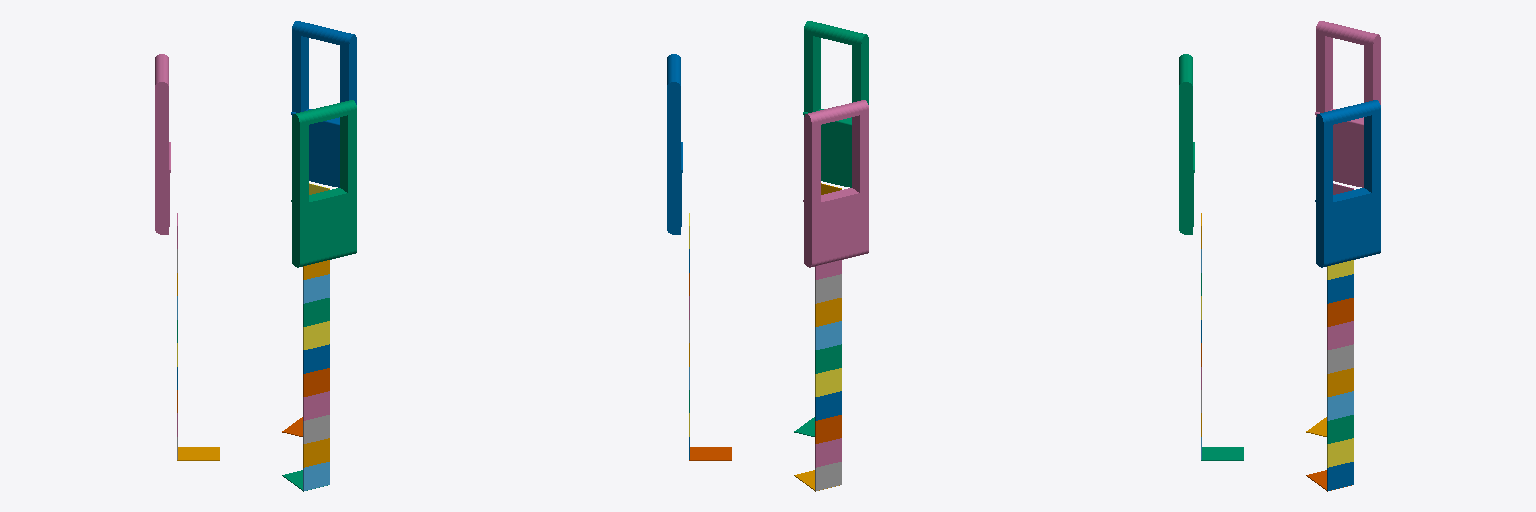
--- What the picture shows (computed from the rendered views, not written in the file) ---
The picture shows the robot from 3 angles, left to right: view 1: azimuth 30°, elevation 25°; view 2: azimuth 150°, elevation 25°; view 3: azimuth 270°, elevation 25°; orthographic projection.
Robot: gripper_task — 42 links, 41 joints (30 revolute, 5 prismatic, 6 fixed); root link world; default pose: all joints at 0 but 3 set to mid-range because 0 is outside their limits (finger_1_prismatic_joint = 0.0915, finger_2_prismatic_joint = 0.0915, finger_3_prismatic_joint = 0.0915).
Visible links, largest first — view 1: finger_1, finger_2, finger_3, finger_1_segment_link_7, finger_1_segment_link_2, finger_1_segment_link_3, finger_1_segment_link_5, finger_1_segment_link_9, finger_1_segment_link_4, finger_1_segment_link_10, finger_1_segment_link_6, finger_1_segment_link_8 (+1 smaller); view 2: finger_3, finger_1, finger_2, finger_3_segment_link_7, finger_3_segment_link_2, finger_3_segment_link_3, finger_3_segment_link_5, finger_3_segment_link_9, finger_3_segment_link_4, finger_3_segment_link_10, finger_3_segment_link_6, finger_3_segment_link_8 (+1 smaller); view 3: finger_2, finger_3, finger_1, finger_2_segment_link_7, finger_2_segment_link_2, finger_2_segment_link_3, finger_2_segment_link_5, finger_2_segment_link_9, finger_2_segment_link_4, finger_2_segment_link_10, finger_2_segment_link_6, finger_2_segment_link_8 (+1 smaller).
Link boxes in pixels (<box>): finger_1: <box>291,100,356,267</box>; finger_2: <box>291,21,356,187</box>; finger_3: <box>155,54,170,234</box>; finger_1_segment_link_7: <box>303,391,329,420</box>; finger_1_segment_link_2: <box>303,274,329,303</box>; finger_1_segment_link_3: <box>303,298,329,326</box>; finger_1_segment_link_5: <box>303,344,329,373</box>; finger_1_segment_link_9: <box>303,438,329,467</box>; finger_1_segment_link_4: <box>303,321,329,349</box>; finger_1_segment_link_10: <box>303,462,329,490</box>; finger_1_segment_link_6: <box>303,368,329,396</box>; finger_1_segment_link_8: <box>303,415,329,443</box>; finger_3: <box>803,100,868,267</box>; finger_1: <box>803,21,868,187</box>; finger_2: <box>667,54,682,234</box>; finger_3_segment_link_7: <box>815,391,841,420</box>; finger_3_segment_link_2: <box>815,274,841,303</box>; finger_3_segment_link_3: <box>815,298,841,326</box>; finger_3_segment_link_5: <box>815,344,841,373</box>; finger_3_segment_link_9: <box>815,438,841,467</box>; finger_3_segment_link_4: <box>815,321,841,349</box>; finger_3_segment_link_10: <box>815,462,841,490</box>; finger_3_segment_link_6: <box>815,368,841,396</box>; finger_3_segment_link_8: <box>815,415,841,443</box>; finger_2: <box>1315,100,1380,267</box>; finger_3: <box>1315,21,1380,187</box>; finger_1: <box>1179,54,1194,234</box>; finger_2_segment_link_7: <box>1327,391,1353,420</box>; finger_2_segment_link_2: <box>1327,274,1353,303</box>; finger_2_segment_link_3: <box>1327,298,1353,326</box>; finger_2_segment_link_5: <box>1327,344,1353,373</box>; finger_2_segment_link_9: <box>1327,438,1353,467</box>; finger_2_segment_link_4: <box>1327,321,1353,349</box>; finger_2_segment_link_10: <box>1327,462,1353,490</box>; finger_2_segment_link_6: <box>1327,368,1353,396</box>; finger_2_segment_link_8: <box>1327,415,1353,443</box>.
Size in the robot's own frame: 0.2121 by 0.1839 by 0.3875 metres.
3 mesh visuals loaded from 4 distinct referenced files (1 binary STL); not drawn: 5 (reference not matched to a file when rendering).

robot.urdf — gripper_task:
<?xml version="1.0" ?>
<!-- =================================================================================== -->
<!-- |    This document was autogenerated by xacro from xacro/gripper_task.urdf.xacro  | -->
<!-- |    EDITING THIS FILE BY HAND IS NOT RECOMMENDED                                 | -->
<!-- =================================================================================== -->
<robot name="gripper_task">
  <mujoco>
    <compiler balanceinertia="true" discardvisual="false" meshdir="./meshes_mujoco/"/>
    <size nconmax="800" njmax="3400"/>
  </mujoco>
  <!-- PARAMETERS TO BE SET BY HAND -->
  <!-- END OF PARAMETERS TO BE SET BY HAND -->
  <!-- PARAMETERS TO BE SET BY HAND -->
  <!-- END OF PARAMETER TO BE SET BY HAND -->
  <!-- BASE LINK -->
  <link name="gripper_base_link">
    <inertial>
      <mass value="1.5"/>
      <origin rpy="3.141592653589793 0 0" xyz="0 0 0.025"/>
      <inertia ixx="9.95e-3" ixy="2.73e-6" ixz="-14.32e-6" iyy="10.08e-3" iyz="121.38e-6" izz="5.13e-3"/>
    </inertial>
    <visual>
      <geometry>
        <mesh filename="package://gripper_description/meshes/main body visual.STL"/>
      </geometry>
    </visual>
    <collision>
      <geometry>
        <!--          <mesh filename="package://gripper_description/meshes/main body collision.STL"/>-->
        <cylinder length="0.1" radius="0.03"/>
      </geometry>
    </collision>
  </link>
  <!-- Intermediate link for prismatic joint -->
  <link name="finger_1_intermediate">
    <inertial>
      <mass value="0.1"/>
      <origin rpy="0 0 0" xyz="0 0 0"/>
      <inertia ixx="55.59e-6" ixy="-47.23e-6" ixz="1.16e-6" iyy="146.36e-6" iyz="1.00e-6" izz="154.18e-6"/>
    </inertial>
    <visual>
      <geometry>
        <mesh filename="package://gripper_description/meshes/nut visual.STL"/>
      </geometry>
    </visual>
    <collision>
      <geometry>
        <mesh filename="package://gripper_description/meshes/nut collision.STL"/>
      </geometry>
    </collision>
  </link>
  <!-- Main finger link -->
  <link name="finger_1">
    <inertial>
      <mass value="0.1"/>
      <origin rpy="0 0 0" xyz="0 0 0"/>
      <inertia ixx="55.59e-6" ixy="-47.23e-6" ixz="1.16e-6" iyy="146.36e-6" iyz="1.00e-6" izz="154.18e-6"/>
    </inertial>
    <visual>
      <geometry>
        <mesh filename="package://gripper_description/meshes/platform only visual.STL"/>
      </geometry>
    </visual>
    <collision>
      <geometry>
        <mesh filename="package://gripper_description/meshes/platform only collision.STL"/>
      </geometry>
    </collision>
  </link>
  <!-- Prismatic joint -->
  <joint name="finger_1_prismatic_joint" type="prismatic">
    <axis rpy="0 0 0" xyz="0 1 0"/>
    <parent link="gripper_base_link"/>
    <child link="finger_1_intermediate"/>
    <origin rpy="4.71238898038469                    4.71238898038469                    1.5707963267948966" xyz="0.0                    0.0                    0"/>
    <limit effort="40.0" lower="0.049" upper="0.134" velocity="0.015"/>
    <dynamics damping="1.0"/>
  </joint>
  <!-- Revolute joint -->
  <joint name="finger_1_revolute_joint" type="revolute">
    <axis rpy="0 0 0" xyz="0 0 1"/>
    <parent link="finger_1_intermediate"/>
    <child link="finger_1"/>
    <origin rpy="0 0 0.0" xyz="0 0 0"/>
    <limit effort="40.0" lower="-0.7" upper="0.7" velocity="0.1"/>
    <dynamics damping="1.0"/>
  </joint>
  <!-- Intermediate link for prismatic joint -->
  <link name="finger_2_intermediate">
    <inertial>
      <mass value="0.1"/>
      <origin rpy="0 0 0" xyz="0 0 0"/>
      <inertia ixx="55.59e-6" ixy="-47.23e-6" ixz="1.16e-6" iyy="146.36e-6" iyz="1.00e-6" izz="154.18e-6"/>
    </inertial>
    <visual>
      <geometry>
        <mesh filename="package://gripper_description/meshes/nut visual.STL"/>
      </geometry>
    </visual>
    <collision>
      <geometry>
        <mesh filename="package://gripper_description/meshes/nut collision.STL"/>
      </geometry>
    </collision>
  </link>
  <!-- Main finger link -->
  <link name="finger_2">
    <inertial>
      <mass value="0.1"/>
      <origin rpy="0 0 0" xyz="0 0 0"/>
      <inertia ixx="55.59e-6" ixy="-47.23e-6" ixz="1.16e-6" iyy="146.36e-6" iyz="1.00e-6" izz="154.18e-6"/>
    </inertial>
    <visual>
      <geometry>
        <mesh filename="package://gripper_description/meshes/platform only visual.STL"/>
      </geometry>
    </visual>
    <collision>
      <geometry>
        <mesh filename="package://gripper_description/meshes/platform only collision.STL"/>
      </geometry>
    </collision>
  </link>
  <!-- Prismatic joint -->
  <joint name="finger_2_prismatic_joint" type="prismatic">
    <axis rpy="0 0 0" xyz="0 1 0"/>
    <parent link="gripper_base_link"/>
    <child link="finger_2_intermediate"/>
    <origin rpy="4.71238898038469                    4.71238898038469                    -0.5235987755982987" xyz="0.0                    -0.0                    0"/>
    <limit effort="40.0" lower="0.049" upper="0.134" velocity="0.015"/>
    <dynamics damping="1.0"/>
  </joint>
  <!-- Revolute joint -->
  <joint name="finger_2_revolute_joint" type="revolute">
    <axis rpy="0 0 0" xyz="0 0 1"/>
    <parent link="finger_2_intermediate"/>
    <child link="finger_2"/>
    <origin rpy="0 0 0.0" xyz="0 0 0"/>
    <limit effort="40.0" lower="-0.7" upper="0.7" velocity="0.1"/>
    <dynamics damping="1.0"/>
  </joint>
  <!-- Intermediate link for prismatic joint -->
  <link name="finger_3_intermediate">
    <inertial>
      <mass value="0.1"/>
      <origin rpy="0 0 0" xyz="0 0 0"/>
      <inertia ixx="55.59e-6" ixy="-47.23e-6" ixz="1.16e-6" iyy="146.36e-6" iyz="1.00e-6" izz="154.18e-6"/>
    </inertial>
    <visual>
      <geometry>
        <mesh filename="package://gripper_description/meshes/nut visual.STL"/>
      </geometry>
    </visual>
    <collision>
      <geometry>
        <mesh filename="package://gripper_description/meshes/nut collision.STL"/>
      </geometry>
    </collision>
  </link>
  <!-- Main finger link -->
  <link name="finger_3">
    <inertial>
      <mass value="0.1"/>
      <origin rpy="0 0 0" xyz="0 0 0"/>
      <inertia ixx="55.59e-6" ixy="-47.23e-6" ixz="1.16e-6" iyy="146.36e-6" iyz="1.00e-6" izz="154.18e-6"/>
    </inertial>
    <visual>
      <geometry>
        <mesh filename="package://gripper_description/meshes/platform only visual.STL"/>
      </geometry>
    </visual>
    <collision>
      <geometry>
        <mesh filename="package://gripper_description/meshes/platform only collision.STL"/>
      </geometry>
    </collision>
  </link>
  <!-- Prismatic joint -->
  <joint name="finger_3_prismatic_joint" type="prismatic">
    <axis rpy="0 0 0" xyz="0 1 0"/>
    <parent link="gripper_base_link"/>
    <child link="finger_3_intermediate"/>
    <origin rpy="4.71238898038469                    4.71238898038469                    -2.617993877991494" xyz="-0.0                    -0.0                    0"/>
    <limit effort="40.0" lower="0.049" upper="0.134" velocity="0.015"/>
    <dynamics damping="1.0"/>
  </joint>
  <!-- Revolute joint -->
  <joint name="finger_3_revolute_joint" type="revolute">
    <axis rpy="0 0 0" xyz="0 0 1"/>
    <parent link="finger_3_intermediate"/>
    <child link="finger_3"/>
    <origin rpy="0 0 0.0" xyz="0 0 0"/>
    <limit effort="40.0" lower="-0.7" upper="0.7" velocity="0.1"/>
    <dynamics damping="1.0"/>
  </joint>
  <!-- PALM -->
  <link name="palm">
    <inertial>
      <mass value="0.05"/>
      <origin rpy="0 0 0" xyz="0 0 0"/>
      <inertia ixx="10.0e-6" ixy="0.0" ixz="0.0" iyy="10.0e-6" iyz="0.0" izz="10.0e-6"/>
    </inertial>
    <visual>
      <origin rpy="0 0 0" xyz="0 0 0"/>
      <geometry>
        <mesh filename="package://gripper_description/meshes/palm visual.STL"/>
      </geometry>
    </visual>
    <collision>
      <geometry>
        <mesh filename="package://gripper_description/meshes/palm collision.STL"/>
      </geometry>
    </collision>
  </link>
  <joint name="palm_prismatic_joint" type="prismatic">
    <axis rpy="0 0 0" xyz="1 0 0"/>
    <parent link="gripper_base_link"/>
    <child link="palm"/>
    <origin rpy="0 -1.5707963267948966 0" xyz="0 0 0"/>
    <limit effort="40.0" lower="0.0" upper="0.165" velocity="0.036"/>
    <dynamics damping="1.0"/>
  </joint>
  <!-- PARAMETERS TO BE SET BY HAND -->
  <!-- END OF PARAMETERS TO BE SET BY HAND -->
  <link name="finger_1_segment_link_1">
    <inertial>
      <mass value="0.006444241316270568"/>
      <inertia ixx="4.21458752285192e-07" ixy="0.00" ixz="0.00" iyy="1.1867124085923218e-06" iyz="0.00" izz="1.6073011882998174e-06"/>
    </inertial>
    <visual>
      <origin rpy="0 0 0" xyz="0.01175 0 0"/>
      <geometry>
        <box size="0.0235 0.028 0.0009"/>
      </geometry>
    </visual>
    <collision>
      <origin rpy="0 0 0" xyz="0.01175 0 0"/>
      <geometry>
        <box size="0.0235 0.028 0.0009"/>
      </geometry>
    </collision>
  </link>
  <gazebo reference="finger_1_segment_link_1">
    <material>Gazebo/Orange</material>
    <mu1>0.1</mu1>
    <mu2>0.1</mu2>
    <maxVel>0.0</maxVel>
    <minDepth>0.001</minDepth>
    <!-- <kp>100</kp>
        <kd>1</kd> -->
  </gazebo>
  <link name="finger_1_segment_link_2">
    <inertial>
      <mass value="0.006444241316270568"/>
      <inertia ixx="4.21458752285192e-07" ixy="0.00" ixz="0.00" iyy="1.1867124085923218e-06" iyz="0.00" izz="1.6073011882998174e-06"/>
    </inertial>
    <visual>
      <origin rpy="0 0 0" xyz="0.01175 0 0"/>
      <geometry>
        <box size="0.0235 0.028 0.0009"/>
      </geometry>
    </visual>
    <collision>
      <origin rpy="0 0 0" xyz="0.01175 0 0"/>
      <geometry>
        <box size="0.0235 0.028 0.0009"/>
      </geometry>
    </collision>
  </link>
  <gazebo reference="finger_1_segment_link_2">
    <material>Gazebo/Orange</material>
    <mu1>0.1</mu1>
    <mu2>0.1</mu2>
    <maxVel>0.0</maxVel>
    <minDepth>0.001</minDepth>
    <!-- <kp>100</kp>
        <kd>1</kd> -->
  </gazebo>
  <!-- bending joint -->
  <joint name="finger_1_segment_joint_1" type="revolute">
    <axis rpy="0 0 0" xyz="0 1 0"/>
    <parent link="finger_1_segment_link_1"/>
    <child link="finger_1_segment_link_2"/>
    <origin rpy="0 0 0" xyz="0.0235 0 0"/>
    <limit effort="1000.0" lower="-1.0" upper="1.0" velocity="1.0"/>
    <dynamics damping="0.01" friction="0.0"/>
  </joint>
  <gazebo reference="finger_1_segment_joint_1">
    <provideFeedback>1</provideFeedback>
    <springReference>0.0</springReference>
    <implicitSpringDamper>1</implicitSpringDamper>
    <springStiffness>3.0</springStiffness>
  </gazebo>
  <!-- set transmission for gazebo ROS controllers-->
  <transmission name="finger_1_segment_tran_1">
    <type>transmission_interface/SimpleTransmission</type>
    <joint name="finger_1_segment_joint_1">
      <hardwareInterface>hardware_interface/EffortJointInterface</hardwareInterface>
    </joint>
    <actuator name="finger_1_segment_motor_1">
      <hardwareInterface>hardware_interface/EffortJointInterface</hardwareInterface>
      <mechanicalReduction>1</mechanicalReduction>
    </actuator>
  </transmission>
  <link name="finger_1_segment_link_3">
    <inertial>
      <mass value="0.006444241316270568"/>
      <inertia ixx="4.21458752285192e-07" ixy="0.00" ixz="0.00" iyy="1.1867124085923218e-06" iyz="0.00" izz="1.6073011882998174e-06"/>
    </inertial>
    <visual>
      <origin rpy="0 0 0" xyz="0.01175 0 0"/>
      <geometry>
        <box size="0.0235 0.028 0.0009"/>
      </geometry>
    </visual>
    <collision>
      <origin rpy="0 0 0" xyz="0.01175 0 0"/>
      <geometry>
        <box size="0.0235 0.028 0.0009"/>
      </geometry>
    </collision>
  </link>
  <gazebo reference="finger_1_segment_link_3">
    <material>Gazebo/Orange</material>
    <mu1>0.1</mu1>
    <mu2>0.1</mu2>
    <maxVel>0.0</maxVel>
    <minDepth>0.001</minDepth>
    <!-- <kp>100</kp>
        <kd>1</kd> -->
  </gazebo>
  <!-- bending joint -->
  <joint name="finger_1_segment_joint_2" type="revolute">
    <axis rpy="0 0 0" xyz="0 1 0"/>
    <parent link="finger_1_segment_link_2"/>
    <child link="finger_1_segment_link_3"/>
    <origin rpy="0 0 0" xyz="0.0235 0 0"/>
    <limit effort="1000.0" lower="-1.0" upper="1.0" velocity="1.0"/>
    <dynamics damping="0.01" friction="0.0"/>
  </joint>
  <gazebo reference="finger_1_segment_joint_2">
    <provideFeedback>1</provideFeedback>
    <springReference>0.0</springReference>
    <implicitSpringDamper>1</implicitSpringDamper>
    <springStiffness>3.0</springStiffness>
  </gazebo>
  <!-- set transmission for gazebo ROS controllers-->
  <transmission name="finger_1_segment_tran_2">
    <type>transmission_interface/SimpleTransmission</type>
    <joint name="finger_1_segment_joint_2">
      <hardwareInterface>hardware_interface/EffortJointInterface</hardwareInterface>
    </joint>
    <actuator name="finger_1_segment_motor_2">
      <hardwareInterface>hardware_interface/EffortJointInterface</hardwareInterface>
      <mechanicalReduction>1</mechanicalReduction>
    </actuator>
  </transmission>
  <link name="finger_1_segment_link_4">
    <inertial>
      <mass value="0.006444241316270568"/>
      <inertia ixx="4.21458752285192e-07" ixy="0.00" ixz="0.00" iyy="1.1867124085923218e-06" iyz="0.00" izz="1.6073011882998174e-06"/>
    </inertial>
    <visual>
      <origin rpy="0 0 0" xyz="0.01175 0 0"/>
      <geometry>
        <box size="0.0235 0.028 0.0009"/>
      </geometry>
    </visual>
    <collision>
      <origin rpy="0 0 0" xyz="0.01175 0 0"/>
      <geometry>
        <box size="0.0235 0.028 0.0009"/>
      </geometry>
    </collision>
  </link>
  <gazebo reference="finger_1_segment_link_4">
    <material>Gazebo/Orange</material>
    <mu1>0.1</mu1>
    <mu2>0.1</mu2>
    <maxVel>0.0</maxVel>
    <minDepth>0.001</minDepth>
    <!-- <kp>100</kp>
        <kd>1</kd> -->
  </gazebo>
  <!-- bending joint -->
  <joint name="finger_1_segment_joint_3" type="revolute">
    <axis rpy="0 0 0" xyz="0 1 0"/>
    <parent link="finger_1_segment_link_3"/>
    <child link="finger_1_segment_link_4"/>
    <origin rpy="0 0 0" xyz="0.0235 0 0"/>
    <limit effort="1000.0" lower="-1.0" upper="1.0" velocity="1.0"/>
    <dynamics damping="0.01" friction="0.0"/>
  </joint>
  <gazebo reference="finger_1_segment_joint_3">
    <provideFeedback>1</provideFeedback>
    <springReference>0.0</springReference>
    <implicitSpringDamper>1</implicitSpringDamper>
    <springStiffness>3.0</springStiffness>
  </gazebo>
  <!-- set transmission for gazebo ROS controllers-->
  <transmission name="finger_1_segment_tran_3">
    <type>transmission_interface/SimpleTransmission</type>
    <joint name="finger_1_segment_joint_3">
      <hardwareInterface>hardware_interface/EffortJointInterface</hardwareInterface>
    </joint>
    <actuator name="finger_1_segment_motor_3">
      <hardwareInterface>hardware_interface/EffortJointInterface</hardwareInterface>
      <mechanicalReduction>1</mechanicalReduction>
    </actuator>
  </transmission>
  <link name="finger_1_segment_link_5">
    <inertial>
      <mass value="0.006444241316270568"/>
      <inertia ixx="4.21458752285192e-07" ixy="0.00" ixz="0.00" iyy="1.1867124085923218e-06" iyz="0.00" izz="1.6073011882998174e-06"/>
    </inertial>
    <visual>
      <origin rpy="0 0 0" xyz="0.01175 0 0"/>
      <geometry>
        <box size="0.0235 0.028 0.0009"/>
      </geometry>
    </visual>
    <collision>
      <origin rpy="0 0 0" xyz="0.01175 0 0"/>
      <geometry>
        <box size="0.0235 0.028 0.0009"/>
      </geometry>
    </collision>
  </link>
  <gazebo reference="finger_1_segment_link_5">
    <material>Gazebo/Orange</material>
    <mu1>0.1</mu1>
    <mu2>0.1</mu2>
    <maxVel>0.0</maxVel>
    <minDepth>0.001</minDepth>
    <!-- <kp>100</kp>
        <kd>1</kd> -->
  </gazebo>
  <!-- bending joint -->
  <joint name="finger_1_segment_joint_4" type="revolute">
    <axis rpy="0 0 0" xyz="0 1 0"/>
    <parent link="finger_1_segment_link_4"/>
    <child link="finger_1_segment_link_5"/>
    <origin rpy="0 0 0" xyz="0.0235 0 0"/>
    <limit effort="1000.0" lower="-1.0" upper="1.0" velocity="1.0"/>
    <dynamics damping="0.01" friction="0.0"/>
  </joint>
  <gazebo reference="finger_1_segment_joint_4">
    <provideFeedback>1</provideFeedback>
    <springReference>0.0</springReference>
    <implicitSpringDamper>1</implicitSpringDamper>
    <springStiffness>3.0</springStiffness>
  </gazebo>
  <!-- set transmission for gazebo ROS controllers-->
  <transmission name="finger_1_segment_tran_4">
    <type>transmission_interface/SimpleTransmission</type>
    <joint name="finger_1_segment_joint_4">
      <hardwareInterface>hardware_interface/EffortJointInterface</hardwareInterface>
    </joint>
    <actuator name="finger_1_segment_motor_4">
      <hardwareInterface>hardware_interface/EffortJointInterface</hardwareInterface>
      <mechanicalReduction>1</mechanicalReduction>
    </actuator>
  </transmission>
  <link name="finger_1_segment_link_6">
    <inertial>
      <mass value="0.006444241316270568"/>
      <inertia ixx="4.21458752285192e-07" ixy="0.00" ixz="0.00" iyy="1.1867124085923218e-06" iyz="0.00" izz="1.6073011882998174e-06"/>
    </inertial>
    <visual>
      <origin rpy="0 0 0" xyz="0.01175 0 0"/>
      <geometry>
        <box size="0.0235 0.028 0.0009"/>
      </geometry>
    </visual>
    <collision>
      <origin rpy="0 0 0" xyz="0.01175 0 0"/>
      <geometry>
        <box size="0.0235 0.028 0.0009"/>
      </geometry>
    </collision>
  </link>
  <gazebo reference="finger_1_segment_link_6">
    <material>Gazebo/Orange</material>
    <mu1>0.1</mu1>
    <mu2>0.1</mu2>
    <maxVel>0.0</maxVel>
    <minDepth>0.001</minDepth>
    <!-- <kp>100</kp>
        <kd>1</kd> -->
  </gazebo>
  <!-- bending joint -->
  <joint name="finger_1_segment_joint_5" type="revolute">
    <axis rpy="0 0 0" xyz="0 1 0"/>
    <parent link="finger_1_segment_link_5"/>
    <child link="finger_1_segment_link_6"/>
    <origin rpy="0 0 0" xyz="0.0235 0 0"/>
    <limit effort="1000.0" lower="-1.0" upper="1.0" velocity="1.0"/>
    <dynamics damping="0.01" friction="0.0"/>
  </joint>
  <gazebo reference="finger_1_segment_joint_5">
    <provideFeedback>1</provideFeedback>
    <springReference>0.0</springReference>
    <implicitSpringDamper>1</implicitSpringDamper>
    <springStiffness>3.0</springStiffness>
  </gazebo>
  <!-- set transmission for gazebo ROS controllers-->
  <transmission name="finger_1_segment_tran_5">
    <type>transmission_interface/SimpleTransmission</type>
    <joint name="finger_1_segment_joint_5">
      <hardwareInterface>hardware_interface/EffortJointInterface</hardwareInterface>
    </joint>
    <actuator name="finger_1_segment_motor_5">
      <hardwareInterface>hardware_interface/EffortJointInterface</hardwareInterface>
      <mechanicalReduction>1</mechanicalReduction>
    </actuator>
  </transmission>
  <link name="finger_1_segment_link_7">
    <inertial>
      <mass value="0.006444241316270568"/>
      <inertia ixx="4.21458752285192e-07" ixy="0.00" ixz="0.00" iyy="1.1867124085923218e-06" iyz="0.00" izz="1.6073011882998174e-06"/>
    </inertial>
    <visual>
      <origin rpy="0 0 0" xyz="0.01175 0 0"/>
      <geometry>
        <box size="0.0235 0.028 0.0009"/>
      </geometry>
    </visual>
    <collision>
      <origin rpy="0 0 0" xyz="0.01175 0 0"/>
      <geometry>
        <box size="0.0235 0.028 0.0009"/>
      </geometry>
    </collision>
  </link>
  <gazebo reference="finger_1_segment_link_7">
    <material>Gazebo/Orange</material>
    <mu1>0.1</mu1>
    <mu2>0.1</mu2>
    <maxVel>0.0</maxVel>
    <minDepth>0.001</minDepth>
    <!-- <kp>100</kp>
        <kd>1</kd> -->
  </gazebo>
  <!-- bending joint -->
  <joint name="finger_1_segment_joint_6" type="revolute">
    <axis rpy="0 0 0" xyz="0 1 0"/>
    <parent link="finger_1_segment_link_6"/>
    <child link="finger_1_segment_link_7"/>
    <origin rpy="0 0 0" xyz="0.0235 0 0"/>
    <limit effort="1000.0" lower="-1.0" upper="1.0" velocity="1.0"/>
    <dynamics damping="0.01" friction="0.0"/>
  </joint>
  <gazebo reference="finger_1_segment_joint_6">
    <provideFeedback>1</provideFeedback>
    <springReference>0.0</springReference>
    <implicitSpringDamper>1</implicitSpringDamper>
    <springStiffness>3.0</springStiffness>
  </gazebo>
  <!-- set transmission for gazebo ROS controllers-->
  <transmission name="finger_1_segment_tran_6">
    <type>transmission_interface/SimpleTransmission</type>
    <joint name="finger_1_segment_joint_6">
      <hardwareInterface>hardware_interface/EffortJointInterface</hardwareInterface>
    </joint>
    <actuator name="finger_1_segment_motor_6">
      <hardwareInterface>hardware_interface/EffortJointInterface</hardwareInterface>
      <mechanicalReduction>1</mechanicalReduction>
    </actuator>
  </transmission>
  <link name="finger_1_segment_link_8">
    <inertial>
      <mass value="0.006444241316270568"/>
      <inertia ixx="4.21458752285192e-07" ixy="0.00" ixz="0.00" iyy="1.1867124085923218e-06" iyz="0.00" izz="1.6073011882998174e-06"/>
    </inertial>
    <visual>
      <origin rpy="0 0 0" xyz="0.01175 0 0"/>
      <geometry>
        <box size="0.0235 0.028 0.0009"/>
      </geometry>
    </visual>
    <collision>
      <origin rpy="0 0 0" xyz="0.01175 0 0"/>
      <geometry>
        <box size="0.0235 0.028 0.0009"/>
      </geometry>
    </collision>
  </link>
  <gazebo reference="finger_1_segment_link_8">
    <material>Gazebo/Orange</material>
    <mu1>0.1</mu1>
    <mu2>0.1</mu2>
    <maxVel>0.0</maxVel>
    <minDepth>0.001</minDepth>
    <!-- <kp>100</kp>
        <kd>1</kd> -->
  </gazebo>
  <!-- bending joint -->
  <joint name="finger_1_segment_joint_7" type="revolute">
    <axis rpy="0 0 0" xyz="0 1 0"/>
    <parent link="finger_1_segment_link_7"/>
    <child link="finger_1_segment_link_8"/>
    <origin rpy="0 0 0" xyz="0.0235 0 0"/>
    <limit effort="1000.0" lower="-1.0" upper="1.0" velocity="1.0"/>
    <dynamics damping="0.01" friction="0.0"/>
  </joint>
  <gazebo reference="finger_1_segment_joint_7">
    <provideFeedback>1</provideFeedback>
    <springReference>0.0</springReference>
    <implicitSpringDamper>1</implicitSpringDamper>
    <springStiffness>3.0</springStiffness>
  </gazebo>
  <!-- set transmission for gazebo ROS controllers-->
  <transmission name="finger_1_segment_tran_7">
    <type>transmission_interface/SimpleTransmission</type>
    <joint name="finger_1_segment_joint_7">
      <hardwareInterface>hardware_interface/EffortJointInterface</hardwareInterface>
    </joint>
    <actuator name="finger_1_segment_motor_7">
      <hardwareInterface>hardware_interface/EffortJointInterface</hardwareInterface>
      <mechanicalReduction>1</mechanicalReduction>
    </actuator>
  </transmission>
  <link name="finger_1_segment_link_9">
    <inertial>
      <mass value="0.006444241316270568"/>
      <inertia ixx="4.21458752285192e-07" ixy="0.00" ixz="0.00" iyy="1.1867124085923218e-06" iyz="0.00" izz="1.6073011882998174e-06"/>
    </inertial>
    <visual>
      <origin rpy="0 0 0" xyz="0.01175 0 0"/>
      <geometry>
        <box size="0.0235 0.028 0.0009"/>
      </geometry>
    </visual>
    <collision>
      <origin rpy="0 0 0" xyz="0.01175 0 0"/>
      <geometry>
        <box size="0.0235 0.028 0.0009"/>
      </geometry>
    </collision>
  </link>
  <gazebo reference="finger_1_segment_link_9">
    <material>Gazebo/Orange</material>
    <mu1>0.1</mu1>
    <mu2>0.1</mu2>
    <maxVel>0.0</maxVel>
    <minDepth>0.001</minDepth>
    <!-- <kp>100</kp>
        <kd>1</kd> -->
  </gazebo>
  <!-- bending joint -->
  <joint name="finger_1_segment_joint_8" type="revolute">
    <axis rpy="0 0 0" xyz="0 1 0"/>
    <parent link="finger_1_segment_link_8"/>
    <child link="finger_1_segment_link_9"/>
    <origin rpy="0 0 0" xyz="0.0235 0 0"/>
    <limit effort="1000.0" lower="-1.0" upper="1.0" velocity="1.0"/>
    <dynamics damping="0.01" friction="0.0"/>
  </joint>
  <gazebo reference="finger_1_segment_joint_8">
    <provideFeedback>1</provideFeedback>
    <springReference>0.0</springReference>
    <implicitSpringDamper>1</implicitSpringDamper>
    <springStiffness>3.0</springStiffness>
  </gazebo>
  <!-- set transmission for gazebo ROS controllers-->
  <transmission name="finger_1_segment_tran_8">
    <type>transmission_interface/SimpleTransmission</type>
    <joint name="finger_1_segment_joint_8">
      <hardwareInterface>hardware_interface/EffortJointInterface</hardwareInterface>
    </joint>
    <actuator name="finger_1_segment_motor_8">
      <hardwareInterface>hardware_interface/EffortJointInterface</hardwareInterface>
      <mechanicalReduction>1</mechanicalReduction>
    </actuator>
  </transmission>
  <link name="finger_1_segment_link_10">
    <inertial>
      <mass value="0.006444241316270568"/>
      <inertia ixx="4.21458752285192e-07" ixy="0.00" ixz="0.00" iyy="1.1867124085923218e-06" iyz="0.00" izz="1.6073011882998174e-06"/>
    </inertial>
    <visual>
      <origin rpy="0 0 0" xyz="0.01175 0 0"/>
      <geometry>
        <box size="0.0235 0.028 0.0009"/>
      </geometry>
    </visual>
    <collision>
      <origin rpy="0 0 0" xyz="0.01175 0 0"/>
      <geometry>
        <box size="0.0235 0.028 0.0009"/>
      </geometry>
    </collision>
  </link>
  <gazebo reference="finger_1_segment_link_10">
    <material>Gazebo/Orange</material>
    <mu1>0.1</mu1>
    <mu2>0.1</mu2>
    <maxVel>0.0</maxVel>
    <minDepth>0.001</minDepth>
    <!-- <kp>100</kp>
        <kd>1</kd> -->
  </gazebo>
  <!-- bending joint -->
  <joint name="finger_1_segment_joint_9" type="revolute">
    <axis rpy="0 0 0" xyz="0 1 0"/>
    <parent link="finger_1_segment_link_9"/>
    <child link="finger_1_segment_link_10"/>
    <origin rpy="0 0 0" xyz="0.0235 0 0"/>
    <limit effort="1000.0" lower="-1.0" upper="1.0" velocity="1.0"/>
    <dynamics damping="0.01" friction="0.0"/>
  </joint>
  <gazebo reference="finger_1_segment_joint_9">
    <provideFeedback>1</provideFeedback>
    <springReference>0.0</springReference>
    <implicitSpringDamper>1</implicitSpringDamper>
    <springStiffness>3.0</springStiffness>
  </gazebo>
  <!-- set transmission for gazebo ROS controllers-->
  <transmission name="finger_1_segment_tran_9">
    <type>transmission_interface/SimpleTransmission</type>
    <joint name="finger_1_segment_joint_9">
      <hardwareInterface>hardware_interface/EffortJointInterface</hardwareInterface>
    </joint>
    <actuator name="finger_1_segment_motor_9">
      <hardwareInterface>hardware_interface/EffortJointInterface</hardwareInterface>
      <mechanicalReduction>1</mechanicalReduction>
    </actuator>
  </transmission>
  <!-- Add the finger hook link -->
  <link name="finger_1_finger_hook_link">
    <inertial>
      <mass value="0.006444241316270568"/>
      <inertia ixx="4.21458752285192e-07" ixy="0.00" ixz="0.00" iyy="1.1867124085923218e-06" iyz="0.00" izz="1.6073011882998174e-06"/>
    </inertial>
    <visual>
      <origin rpy="0 0 0" xyz="0.01925 0 0"/>
      <geometry>
        <box size="0.0385 0.028 0.0009"/>
      </geometry>
    </visual>
    <collision>
      <origin rpy="0 0 0" xyz="0.01925 0 0"/>
      <geometry>
        <box size="0.0385 0.028 0.0009"/>
      </geometry>
    </collision>
  </link>
  <gazebo reference="finger_1_finger_hook_link">
    <material>Gazebo/Orange</material>
    <mu1>0.1</mu1>
    <mu2>0.1</mu2>
    <maxVel>0.0</maxVel>
    <minDepth>0.001</minDepth>
    <!-- <kp>100</kp>
        <kd>1</kd> -->
  </gazebo>
  <!-- Connect the finger hook via a fixed joint -->
  <joint name="finger_1_finger_hook_joint" type="fixed">
    <parent link="finger_1_segment_link_10"/>
    <child link="finger_1_finger_hook_link"/>
    <origin rpy="0 -1.5707963267948502 0" xyz="0.0235 0 0"/>
  </joint>
  <!-- PARAMETERS TO BE SET BY HAND -->
  <!-- END OF PARAMETERS TO BE SET BY HAND -->
  <link name="finger_2_segment_link_1">
    <inertial>
      <mass value="0.006444241316270568"/>
      <inertia ixx="4.21458752285192e-07" ixy="0.00" ixz="0.00" iyy="1.1867124085923218e-06" iyz="0.00" izz="1.6073011882998174e-06"/>
    </inertial>
    <visual>
      <origin rpy="0 0 0" xyz="0.01175 0 0"/>
      <geometry>
        <box size="0.0235 0.028 0.0009"/>
      </geometry>
    </visual>
    <collision>
      <origin rpy="0 0 0" xyz="0.01175 0 0"/>
      <geometry>
        <box size="0.0235 0.028 0.0009"/>
      </geometry>
    </collision>
  </link>
  <gazebo reference="finger_2_segment_link_1">
    <material>Gazebo/Orange</material>
    <mu1>0.1</mu1>
    <mu2>0.1</mu2>
    <maxVel>0.0</maxVel>
    <minDepth>0.001</minDepth>
    <!-- <kp>100</kp>
        <kd>1</kd> -->
  </gazebo>
  <link name="finger_2_segment_link_2">
    <inertial>
      <mass value="0.006444241316270568"/>
      <inertia ixx="4.21458752285192e-07" ixy="0.00" ixz="0.00" iyy="1.1867124085923218e-06" iyz="0.00" izz="1.6073011882998174e-06"/>
    </inertial>
    <visual>
      <origin rpy="0 0 0" xyz="0.01175 0 0"/>
      <geometry>
        <box size="0.0235 0.028 0.0009"/>
      </geometry>
    </visual>
    <collision>
      <origin rpy="0 0 0" xyz="0.01175 0 0"/>
      <geometry>
        <box size="0.0235 0.028 0.0009"/>
      </geometry>
    </collision>
  </link>
  <gazebo reference="finger_2_segment_link_2">
    <material>Gazebo/Orange</material>
    <mu1>0.1</mu1>
    <mu2>0.1</mu2>
    <maxVel>0.0</maxVel>
    <minDepth>0.001</minDepth>
    <!-- <kp>100</kp>
        <kd>1</kd> -->
  </gazebo>
  <!-- bending joint -->
  <joint name="finger_2_segment_joint_1" type="revolute">
    <axis rpy="0 0 0" xyz="0 1 0"/>
    <parent link="finger_2_segment_link_1"/>
    <child link="finger_2_segment_link_2"/>
    <origin rpy="0 0 0" xyz="0.0235 0 0"/>
    <limit effort="1000.0" lower="-1.0" upper="1.0" velocity="1.0"/>
    <dynamics damping="0.01" friction="0.0"/>
  </joint>
  <gazebo reference="finger_2_segment_joint_1">
    <provideFeedback>1</provideFeedback>
    <springReference>0.0</springReference>
    <implicitSpringDamper>1</implicitSpringDamper>
    <springStiffness>3.0</springStiffness>
  </gazebo>
  <!-- set transmission for gazebo ROS controllers-->
  <transmission name="finger_2_segment_tran_1">
    <type>transmission_interface/SimpleTransmission</type>
    <joint name="finger_2_segment_joint_1">
      <hardwareInterface>hardware_interface/EffortJointInterface</hardwareInterface>
    </joint>
    <actuator name="finger_2_segment_motor_1">
      <hardwareInterface>hardware_interface/EffortJointInterface</hardwareInterface>
      <mechanicalReduction>1</mechanicalReduction>
    </actuator>
  </transmission>
  <link name="finger_2_segment_link_3">
    <inertial>
      <mass value="0.006444241316270568"/>
      <inertia ixx="4.21458752285192e-07" ixy="0.00" ixz="0.00" iyy="1.1867124085923218e-06" iyz="0.00" izz="1.6073011882998174e-06"/>
    </inertial>
    <visual>
      <origin rpy="0 0 0" xyz="0.01175 0 0"/>
      <geometry>
        <box size="0.0235 0.028 0.0009"/>
      </geometry>
    </visual>
    <collision>
      <origin rpy="0 0 0" xyz="0.01175 0 0"/>
      <geometry>
        <box size="0.0235 0.028 0.0009"/>
      </geometry>
    </collision>
  </link>
  <gazebo reference="finger_2_segment_link_3">
    <material>Gazebo/Orange</material>
    <mu1>0.1</mu1>
    <mu2>0.1</mu2>
    <maxVel>0.0</maxVel>
    <minDepth>0.001</minDepth>
    <!-- <kp>100</kp>
        <kd>1</kd> -->
  </gazebo>
  <!-- bending joint -->
  <joint name="finger_2_segment_joint_2" type="revolute">
    <axis rpy="0 0 0" xyz="0 1 0"/>
    <parent link="finger_2_segment_link_2"/>
    <child link="finger_2_segment_link_3"/>
    <origin rpy="0 0 0" xyz="0.0235 0 0"/>
    <limit effort="1000.0" lower="-1.0" upper="1.0" velocity="1.0"/>
    <dynamics damping="0.01" friction="0.0"/>
  </joint>
  <gazebo reference="finger_2_segment_joint_2">
    <provideFeedback>1</provideFeedback>
    <springReference>0.0</springReference>
    <implicitSpringDamper>1</implicitSpringDamper>
    <springStiffness>3.0</springStiffness>
  </gazebo>
  <!-- set transmission for gazebo ROS controllers-->
  <transmission name="finger_2_segment_tran_2">
    <type>transmission_interface/SimpleTransmission</type>
    <joint name="finger_2_segment_joint_2">
      <hardwareInterface>hardware_interface/EffortJointInterface</hardwareInterface>
    </joint>
    <actuator name="finger_2_segment_motor_2">
      <hardwareInterface>hardware_interface/EffortJointInterface</hardwareInterface>
      <mechanicalReduction>1</mechanicalReduction>
    </actuator>
  </transmission>
  <link name="finger_2_segment_link_4">
    <inertial>
      <mass value="0.006444241316270568"/>
      <inertia ixx="4.21458752285192e-07" ixy="0.00" ixz="0.00" iyy="1.1867124085923218e-06" iyz="0.00" izz="1.6073011882998174e-06"/>
    </inertial>
    <visual>
      <origin rpy="0 0 0" xyz="0.01175 0 0"/>
      <geometry>
        <box size="0.0235 0.028 0.0009"/>
      </geometry>
    </visual>
    <collision>
      <origin rpy="0 0 0" xyz="0.01175 0 0"/>
      <geometry>
        <box size="0.0235 0.028 0.0009"/>
      </geometry>
    </collision>
  </link>
  <gazebo reference="finger_2_segment_link_4">
    <material>Gazebo/Orange</material>
    <mu1>0.1</mu1>
    <mu2>0.1</mu2>
    <maxVel>0.0</maxVel>
    <minDepth>0.001</minDepth>
    <!-- <kp>100</kp>
        <kd>1</kd> -->
  </gazebo>
  <!-- bending joint -->
  <joint name="finger_2_segment_joint_3" type="revolute">
    <axis rpy="0 0 0" xyz="0 1 0"/>
    <parent link="finger_2_segment_link_3"/>
    <child link="finger_2_segment_link_4"/>
    <origin rpy="0 0 0" xyz="0.0235 0 0"/>
    <limit effort="1000.0" lower="-1.0" upper="1.0" velocity="1.0"/>
    <dynamics damping="0.01" friction="0.0"/>
  </joint>
  <gazebo reference="finger_2_segment_joint_3">
    <provideFeedback>1</provideFeedback>
    <springReference>0.0</springReference>
    <implicitSpringDamper>1</implicitSpringDamper>
    <springStiffness>3.0</springStiffness>
  </gazebo>
  <!-- set transmission for gazebo ROS controllers-->
  <transmission name="finger_2_segment_tran_3">
    <type>transmission_interface/SimpleTransmission</type>
    <joint name="finger_2_segment_joint_3">
      <hardwareInterface>hardware_interface/EffortJointInterface</hardwareInterface>
    </joint>
    <actuator name="finger_2_segment_motor_3">
      <hardwareInterface>hardware_interface/EffortJointInterface</hardwareInterface>
      <mechanicalReduction>1</mechanicalReduction>
    </actuator>
  </transmission>
  <link name="finger_2_segment_link_5">
    <inertial>
      <mass value="0.006444241316270568"/>
      <inertia ixx="4.21458752285192e-07" ixy="0.00" ixz="0.00" iyy="1.1867124085923218e-06" iyz="0.00" izz="1.6073011882998174e-06"/>
    </inertial>
    <visual>
      <origin rpy="0 0 0" xyz="0.01175 0 0"/>
      <geometry>
        <box size="0.0235 0.028 0.0009"/>
      </geometry>
    </visual>
    <collision>
      <origin rpy="0 0 0" xyz="0.01175 0 0"/>
      <geometry>
        <box size="0.0235 0.028 0.0009"/>
      </geometry>
    </collision>
  </link>
  <gazebo reference="finger_2_segment_link_5">
    <material>Gazebo/Orange</material>
    <mu1>0.1</mu1>
    <mu2>0.1</mu2>
    <maxVel>0.0</maxVel>
    <minDepth>0.001</minDepth>
    <!-- <kp>100</kp>
        <kd>1</kd> -->
  </gazebo>
  <!-- bending joint -->
  <joint name="finger_2_segment_joint_4" type="revolute">
    <axis rpy="0 0 0" xyz="0 1 0"/>
    <parent link="finger_2_segment_link_4"/>
    <child link="finger_2_segment_link_5"/>
    <origin rpy="0 0 0" xyz="0.0235 0 0"/>
    <limit effort="1000.0" lower="-1.0" upper="1.0" velocity="1.0"/>
    <dynamics damping="0.01" friction="0.0"/>
  </joint>
  <gazebo reference="finger_2_segment_joint_4">
    <provideFeedback>1</provideFeedback>
    <springReference>0.0</springReference>
    <implicitSpringDamper>1</implicitSpringDamper>
    <springStiffness>3.0</springStiffness>
  </gazebo>
  <!-- set transmission for gazebo ROS controllers-->
  <transmission name="finger_2_segment_tran_4">
    <type>transmission_interface/SimpleTransmission</type>
    <joint name="finger_2_segment_joint_4">
      <hardwareInterface>hardware_interface/EffortJointInterface</hardwareInterface>
    </joint>
    <actuator name="finger_2_segment_motor_4">
      <hardwareInterface>hardware_interface/EffortJointInterface</hardwareInterface>
      <mechanicalReduction>1</mechanicalReduction>
    </actuator>
  </transmission>
  <link name="finger_2_segment_link_6">
    <inertial>
      <mass value="0.006444241316270568"/>
      <inertia ixx="4.21458752285192e-07" ixy="0.00" ixz="0.00" iyy="1.1867124085923218e-06" iyz="0.00" izz="1.6073011882998174e-06"/>
    </inertial>
    <visual>
      <origin rpy="0 0 0" xyz="0.01175 0 0"/>
      <geometry>
        <box size="0.0235 0.028 0.0009"/>
      </geometry>
    </visual>
    <collision>
      <origin rpy="0 0 0" xyz="0.01175 0 0"/>
      <geometry>
        <box size="0.0235 0.028 0.0009"/>
      </geometry>
    </collision>
  </link>
  <gazebo reference="finger_2_segment_link_6">
    <material>Gazebo/Orange</material>
    <mu1>0.1</mu1>
    <mu2>0.1</mu2>
    <maxVel>0.0</maxVel>
    <minDepth>0.001</minDepth>
    <!-- <kp>100</kp>
        <kd>1</kd> -->
  </gazebo>
  <!-- bending joint -->
  <joint name="finger_2_segment_joint_5" type="revolute">
    <axis rpy="0 0 0" xyz="0 1 0"/>
    <parent link="finger_2_segment_link_5"/>
    <child link="finger_2_segment_link_6"/>
    <origin rpy="0 0 0" xyz="0.0235 0 0"/>
    <limit effort="1000.0" lower="-1.0" upper="1.0" velocity="1.0"/>
    <dynamics damping="0.01" friction="0.0"/>
  </joint>
  <gazebo reference="finger_2_segment_joint_5">
    <provideFeedback>1</provideFeedback>
    <springReference>0.0</springReference>
    <implicitSpringDamper>1</implicitSpringDamper>
    <springStiffness>3.0</springStiffness>
  </gazebo>
  <!-- set transmission for gazebo ROS controllers-->
  <transmission name="finger_2_segment_tran_5">
    <type>transmission_interface/SimpleTransmission</type>
    <joint name="finger_2_segment_joint_5">
      <hardwareInterface>hardware_interface/EffortJointInterface</hardwareInterface>
    </joint>
    <actuator name="finger_2_segment_motor_5">
      <hardwareInterface>hardware_interface/EffortJointInterface</hardwareInterface>
      <mechanicalReduction>1</mechanicalReduction>
    </actuator>
  </transmission>
  <link name="finger_2_segment_link_7">
    <inertial>
      <mass value="0.006444241316270568"/>
      <inertia ixx="4.21458752285192e-07" ixy="0.00" ixz="0.00" iyy="1.1867124085923218e-06" iyz="0.00" izz="1.6073011882998174e-06"/>
    </inertial>
    <visual>
      <origin rpy="0 0 0" xyz="0.01175 0 0"/>
      <geometry>
        <box size="0.0235 0.028 0.0009"/>
      </geometry>
    </visual>
    <collision>
      <origin rpy="0 0 0" xyz="0.01175 0 0"/>
      <geometry>
        <box size="0.0235 0.028 0.0009"/>
      </geometry>
    </collision>
  </link>
  <gazebo reference="finger_2_segment_link_7">
    <material>Gazebo/Orange</material>
    <mu1>0.1</mu1>
    <mu2>0.1</mu2>
    <maxVel>0.0</maxVel>
    <minDepth>0.001</minDepth>
    <!-- <kp>100</kp>
        <kd>1</kd> -->
  </gazebo>
  <!-- bending joint -->
  <joint name="finger_2_segment_joint_6" type="revolute">
    <axis rpy="0 0 0" xyz="0 1 0"/>
    <parent link="finger_2_segment_link_6"/>
    <child link="finger_2_segment_link_7"/>
    <origin rpy="0 0 0" xyz="0.0235 0 0"/>
    <limit effort="1000.0" lower="-1.0" upper="1.0" velocity="1.0"/>
    <dynamics damping="0.01" friction="0.0"/>
  </joint>
  <gazebo reference="finger_2_segment_joint_6">
    <provideFeedback>1</provideFeedback>
    <springReference>0.0</springReference>
    <implicitSpringDamper>1</implicitSpringDamper>
    <springStiffness>3.0</springStiffness>
  </gazebo>
  <!-- set transmission for gazebo ROS controllers-->
  <transmission name="finger_2_segment_tran_6">
    <type>transmission_interface/SimpleTransmission</type>
    <joint name="finger_2_segment_joint_6">
      <hardwareInterface>hardware_interface/EffortJointInterface</hardwareInterface>
    </joint>
    <actuator name="finger_2_segment_motor_6">
      <hardwareInterface>hardware_interface/EffortJointInterface</hardwareInterface>
      <mechanicalReduction>1</mechanicalReduction>
    </actuator>
  </transmission>
  <link name="finger_2_segment_link_8">
    <inertial>
      <mass value="0.006444241316270568"/>
      <inertia ixx="4.21458752285192e-07" ixy="0.00" ixz="0.00" iyy="1.1867124085923218e-06" iyz="0.00" izz="1.6073011882998174e-06"/>
    </inertial>
    <visual>
      <origin rpy="0 0 0" xyz="0.01175 0 0"/>
      <geometry>
        <box size="0.0235 0.028 0.0009"/>
      </geometry>
    </visual>
    <collision>
      <origin rpy="0 0 0" xyz="0.01175 0 0"/>
      <geometry>
        <box size="0.0235 0.028 0.0009"/>
      </geometry>
    </collision>
  </link>
  <gazebo reference="finger_2_segment_link_8">
    <material>Gazebo/Orange</material>
    <mu1>0.1</mu1>
    <mu2>0.1</mu2>
    <maxVel>0.0</maxVel>
    <minDepth>0.001</minDepth>
    <!-- <kp>100</kp>
        <kd>1</kd> -->
  </gazebo>
  <!-- bending joint -->
  <joint name="finger_2_segment_joint_7" type="revolute">
    <axis rpy="0 0 0" xyz="0 1 0"/>
    <parent link="finger_2_segment_link_7"/>
    <child link="finger_2_segment_link_8"/>
    <origin rpy="0 0 0" xyz="0.0235 0 0"/>
    <limit effort="1000.0" lower="-1.0" upper="1.0" velocity="1.0"/>
    <dynamics damping="0.01" friction="0.0"/>
  </joint>
  <gazebo reference="finger_2_segment_joint_7">
    <provideFeedback>1</provideFeedback>
    <springReference>0.0</springReference>
    <implicitSpringDamper>1</implicitSpringDamper>
    <springStiffness>3.0</springStiffness>
  </gazebo>
  <!-- set transmission for gazebo ROS controllers-->
  <transmission name="finger_2_segment_tran_7">
    <type>transmission_interface/SimpleTransmission</type>
    <joint name="finger_2_segment_joint_7">
      <hardwareInterface>hardware_interface/EffortJointInterface</hardwareInterface>
    </joint>
    <actuator name="finger_2_segment_motor_7">
      <hardwareInterface>hardware_interface/EffortJointInterface</hardwareInterface>
      <mechanicalReduction>1</mechanicalReduction>
    </actuator>
  </transmission>
  <link name="finger_2_segment_link_9">
    <inertial>
      <mass value="0.006444241316270568"/>
      <inertia ixx="4.21458752285192e-07" ixy="0.00" ixz="0.00" iyy="1.1867124085923218e-06" iyz="0.00" izz="1.6073011882998174e-06"/>
    </inertial>
    <visual>
      <origin rpy="0 0 0" xyz="0.01175 0 0"/>
      <geometry>
        <box size="0.0235 0.028 0.0009"/>
      </geometry>
    </visual>
    <collision>
      <origin rpy="0 0 0" xyz="0.01175 0 0"/>
      <geometry>
        <box size="0.0235 0.028 0.0009"/>
      </geometry>
    </collision>
  </link>
  <gazebo reference="finger_2_segment_link_9">
    <material>Gazebo/Orange</material>
    <mu1>0.1</mu1>
    <mu2>0.1</mu2>
    <maxVel>0.0</maxVel>
    <minDepth>0.001</minDepth>
    <!-- <kp>100</kp>
        <kd>1</kd> -->
  </gazebo>
  <!-- bending joint -->
  <joint name="finger_2_segment_joint_8" type="revolute">
    <axis rpy="0 0 0" xyz="0 1 0"/>
    <parent link="finger_2_segment_link_8"/>
    <child link="finger_2_segment_link_9"/>
    <origin rpy="0 0 0" xyz="0.0235 0 0"/>
    <limit effort="1000.0" lower="-1.0" upper="1.0" velocity="1.0"/>
    <dynamics damping="0.01" friction="0.0"/>
  </joint>
  <gazebo reference="finger_2_segment_joint_8">
    <provideFeedback>1</provideFeedback>
    <springReference>0.0</springReference>
    <implicitSpringDamper>1</implicitSpringDamper>
    <springStiffness>3.0</springStiffness>
  </gazebo>
  <!-- set transmission for gazebo ROS controllers-->
  <transmission name="finger_2_segment_tran_8">
    <type>transmission_interface/SimpleTransmission</type>
    <joint name="finger_2_segment_joint_8">
      <hardwareInterface>hardware_interface/EffortJointInterface</hardwareInterface>
    </joint>
    <actuator name="finger_2_segment_motor_8">
      <hardwareInterface>hardware_interface/EffortJointInterface</hardwareInterface>
      <mechanicalReduction>1</mechanicalReduction>
    </actuator>
  </transmission>
  <link name="finger_2_segment_link_10">
    <inertial>
      <mass value="0.006444241316270568"/>
      <inertia ixx="4.21458752285192e-07" ixy="0.00" ixz="0.00" iyy="1.1867124085923218e-06" iyz="0.00" izz="1.6073011882998174e-06"/>
    </inertial>
    <visual>
      <origin rpy="0 0 0" xyz="0.01175 0 0"/>
      <geometry>
        <box size="0.0235 0.028 0.0009"/>
      </geometry>
    </visual>
    <collision>
      <origin rpy="0 0 0" xyz="0.01175 0 0"/>
      <geometry>
        <box size="0.0235 0.028 0.0009"/>
      </geometry>
    </collision>
  </link>
  <gazebo reference="finger_2_segment_link_10">
    <material>Gazebo/Orange</material>
    <mu1>0.1</mu1>
    <mu2>0.1</mu2>
    <maxVel>0.0</maxVel>
    <minDepth>0.001</minDepth>
    <!-- <kp>100</kp>
        <kd>1</kd> -->
  </gazebo>
  <!-- bending joint -->
  <joint name="finger_2_segment_joint_9" type="revolute">
    <axis rpy="0 0 0" xyz="0 1 0"/>
    <parent link="finger_2_segment_link_9"/>
    <child link="finger_2_segment_link_10"/>
    <origin rpy="0 0 0" xyz="0.0235 0 0"/>
    <limit effort="1000.0" lower="-1.0" upper="1.0" velocity="1.0"/>
    <dynamics damping="0.01" friction="0.0"/>
  </joint>
  <gazebo reference="finger_2_segment_joint_9">
    <provideFeedback>1</provideFeedback>
    <springReference>0.0</springReference>
    <implicitSpringDamper>1</implicitSpringDamper>
    <springStiffness>3.0</springStiffness>
  </gazebo>
  <!-- set transmission for gazebo ROS controllers-->
  <transmission name="finger_2_segment_tran_9">
    <type>transmission_interface/SimpleTransmission</type>
    <joint name="finger_2_segment_joint_9">
      <hardwareInterface>hardware_interface/EffortJointInterface</hardwareInterface>
    </joint>
    <actuator name="finger_2_segment_motor_9">
      <hardwareInterface>hardware_interface/EffortJointInterface</hardwareInterface>
      <mechanicalReduction>1</mechanicalReduction>
    </actuator>
  </transmission>
  <!-- Add the finger hook link -->
  <link name="finger_2_finger_hook_link">
    <inertial>
      <mass value="0.006444241316270568"/>
      <inertia ixx="4.21458752285192e-07" ixy="0.00" ixz="0.00" iyy="1.1867124085923218e-06" iyz="0.00" izz="1.6073011882998174e-06"/>
    </inertial>
    <visual>
      <origin rpy="0 0 0" xyz="0.01925 0 0"/>
      <geometry>
        <box size="0.0385 0.028 0.0009"/>
      </geometry>
    </visual>
    <collision>
      <origin rpy="0 0 0" xyz="0.01925 0 0"/>
      <geometry>
        <box size="0.0385 0.028 0.0009"/>
      </geometry>
    </collision>
  </link>
  <gazebo reference="finger_2_finger_hook_link">
    <material>Gazebo/Orange</material>
    <mu1>0.1</mu1>
    <mu2>0.1</mu2>
    <maxVel>0.0</maxVel>
    <minDepth>0.001</minDepth>
    <!-- <kp>100</kp>
        <kd>1</kd> -->
  </gazebo>
  <!-- Connect the finger hook via a fixed joint -->
  <joint name="finger_2_finger_hook_joint" type="fixed">
    <parent link="finger_2_segment_link_10"/>
    <child link="finger_2_finger_hook_link"/>
    <origin rpy="0 -1.5707963267948502 0" xyz="0.0235 0 0"/>
  </joint>
  <!-- PARAMETERS TO BE SET BY HAND -->
  <!-- END OF PARAMETERS TO BE SET BY HAND -->
  <link name="finger_3_segment_link_1">
    <inertial>
      <mass value="0.006444241316270568"/>
      <inertia ixx="4.21458752285192e-07" ixy="0.00" ixz="0.00" iyy="1.1867124085923218e-06" iyz="0.00" izz="1.6073011882998174e-06"/>
    </inertial>
    <visual>
      <origin rpy="0 0 0" xyz="0.01175 0 0"/>
      <geometry>
        <box size="0.0235 0.028 0.0009"/>
      </geometry>
    </visual>
    <collision>
      <origin rpy="0 0 0" xyz="0.01175 0 0"/>
      <geometry>
        <box size="0.0235 0.028 0.0009"/>
      </geometry>
    </collision>
  </link>
  <gazebo reference="finger_3_segment_link_1">
    <material>Gazebo/Orange</material>
    <mu1>0.1</mu1>
    <mu2>0.1</mu2>
    <maxVel>0.0</maxVel>
    <minDepth>0.001</minDepth>
    <!-- <kp>100</kp>
        <kd>1</kd> -->
  </gazebo>
  <link name="finger_3_segment_link_2">
    <inertial>
      <mass value="0.006444241316270568"/>
      <inertia ixx="4.21458752285192e-07" ixy="0.00" ixz="0.00" iyy="1.1867124085923218e-06" iyz="0.00" izz="1.6073011882998174e-06"/>
    </inertial>
    <visual>
      <origin rpy="0 0 0" xyz="0.01175 0 0"/>
      <geometry>
        <box size="0.0235 0.028 0.0009"/>
      </geometry>
    </visual>
    <collision>
      <origin rpy="0 0 0" xyz="0.01175 0 0"/>
      <geometry>
        <box size="0.0235 0.028 0.0009"/>
      </geometry>
    </collision>
  </link>
  <gazebo reference="finger_3_segment_link_2">
    <material>Gazebo/Orange</material>
    <mu1>0.1</mu1>
    <mu2>0.1</mu2>
    <maxVel>0.0</maxVel>
    <minDepth>0.001</minDepth>
    <!-- <kp>100</kp>
        <kd>1</kd> -->
  </gazebo>
  <!-- bending joint -->
  <joint name="finger_3_segment_joint_1" type="revolute">
    <axis rpy="0 0 0" xyz="0 1 0"/>
    <parent link="finger_3_segment_link_1"/>
    <child link="finger_3_segment_link_2"/>
    <origin rpy="0 0 0" xyz="0.0235 0 0"/>
    <limit effort="1000.0" lower="-1.0" upper="1.0" velocity="1.0"/>
    <dynamics damping="0.01" friction="0.0"/>
  </joint>
  <gazebo reference="finger_3_segment_joint_1">
    <provideFeedback>1</provideFeedback>
    <springReference>0.0</springReference>
    <implicitSpringDamper>1</implicitSpringDamper>
    <springStiffness>3.0</springStiffness>
  </gazebo>
  <!-- set transmission for gazebo ROS controllers-->
  <transmission name="finger_3_segment_tran_1">
    <type>transmission_interface/SimpleTransmission</type>
    <joint name="finger_3_segment_joint_1">
      <hardwareInterface>hardware_interface/EffortJointInterface</hardwareInterface>
    </joint>
    <actuator name="finger_3_segment_motor_1">
      <hardwareInterface>hardware_interface/EffortJointInterface</hardwareInterface>
      <mechanicalReduction>1</mechanicalReduction>
    </actuator>
  </transmission>
  <link name="finger_3_segment_link_3">
    <inertial>
      <mass value="0.006444241316270568"/>
      <inertia ixx="4.21458752285192e-07" ixy="0.00" ixz="0.00" iyy="1.1867124085923218e-06" iyz="0.00" izz="1.6073011882998174e-06"/>
    </inertial>
    <visual>
      <origin rpy="0 0 0" xyz="0.01175 0 0"/>
      <geometry>
        <box size="0.0235 0.028 0.0009"/>
      </geometry>
    </visual>
    <collision>
      <origin rpy="0 0 0" xyz="0.01175 0 0"/>
      <geometry>
        <box size="0.0235 0.028 0.0009"/>
      </geometry>
    </collision>
  </link>
  <gazebo reference="finger_3_segment_link_3">
    <material>Gazebo/Orange</material>
    <mu1>0.1</mu1>
    <mu2>0.1</mu2>
    <maxVel>0.0</maxVel>
    <minDepth>0.001</minDepth>
    <!-- <kp>100</kp>
        <kd>1</kd> -->
  </gazebo>
  <!-- bending joint -->
  <joint name="finger_3_segment_joint_2" type="revolute">
    <axis rpy="0 0 0" xyz="0 1 0"/>
    <parent link="finger_3_segment_link_2"/>
    <child link="finger_3_segment_link_3"/>
    <origin rpy="0 0 0" xyz="0.0235 0 0"/>
    <limit effort="1000.0" lower="-1.0" upper="1.0" velocity="1.0"/>
    <dynamics damping="0.01" friction="0.0"/>
  </joint>
  <gazebo reference="finger_3_segment_joint_2">
    <provideFeedback>1</provideFeedback>
    <springReference>0.0</springReference>
    <implicitSpringDamper>1</implicitSpringDamper>
    <springStiffness>3.0</springStiffness>
  </gazebo>
  <!-- set transmission for gazebo ROS controllers-->
  <transmission name="finger_3_segment_tran_2">
    <type>transmission_interface/SimpleTransmission</type>
    <joint name="finger_3_segment_joint_2">
      <hardwareInterface>hardware_interface/EffortJointInterface</hardwareInterface>
    </joint>
    <actuator name="finger_3_segment_motor_2">
      <hardwareInterface>hardware_interface/EffortJointInterface</hardwareInterface>
      <mechanicalReduction>1</mechanicalReduction>
    </actuator>
  </transmission>
  <link name="finger_3_segment_link_4">
    <inertial>
      <mass value="0.006444241316270568"/>
      <inertia ixx="4.21458752285192e-07" ixy="0.00" ixz="0.00" iyy="1.1867124085923218e-06" iyz="0.00" izz="1.6073011882998174e-06"/>
    </inertial>
    <visual>
      <origin rpy="0 0 0" xyz="0.01175 0 0"/>
      <geometry>
        <box size="0.0235 0.028 0.0009"/>
      </geometry>
    </visual>
    <collision>
      <origin rpy="0 0 0" xyz="0.01175 0 0"/>
      <geometry>
        <box size="0.0235 0.028 0.0009"/>
      </geometry>
    </collision>
  </link>
  <gazebo reference="finger_3_segment_link_4">
    <material>Gazebo/Orange</material>
    <mu1>0.1</mu1>
    <mu2>0.1</mu2>
    <maxVel>0.0</maxVel>
    <minDepth>0.001</minDepth>
    <!-- <kp>100</kp>
        <kd>1</kd> -->
  </gazebo>
  <!-- bending joint -->
  <joint name="finger_3_segment_joint_3" type="revolute">
    <axis rpy="0 0 0" xyz="0 1 0"/>
    <parent link="finger_3_segment_link_3"/>
    <child link="finger_3_segment_link_4"/>
    <origin rpy="0 0 0" xyz="0.0235 0 0"/>
    <limit effort="1000.0" lower="-1.0" upper="1.0" velocity="1.0"/>
    <dynamics damping="0.01" friction="0.0"/>
  </joint>
  <gazebo reference="finger_3_segment_joint_3">
    <provideFeedback>1</provideFeedback>
    <springReference>0.0</springReference>
    <implicitSpringDamper>1</implicitSpringDamper>
    <springStiffness>3.0</springStiffness>
  </gazebo>
  <!-- set transmission for gazebo ROS controllers-->
  <transmission name="finger_3_segment_tran_3">
    <type>transmission_interface/SimpleTransmission</type>
    <joint name="finger_3_segment_joint_3">
      <hardwareInterface>hardware_interface/EffortJointInterface</hardwareInterface>
    </joint>
    <actuator name="finger_3_segment_motor_3">
      <hardwareInterface>hardware_interface/EffortJointInterface</hardwareInterface>
      <mechanicalReduction>1</mechanicalReduction>
    </actuator>
  </transmission>
  <link name="finger_3_segment_link_5">
    <inertial>
      <mass value="0.006444241316270568"/>
      <inertia ixx="4.21458752285192e-07" ixy="0.00" ixz="0.00" iyy="1.1867124085923218e-06" iyz="0.00" izz="1.6073011882998174e-06"/>
    </inertial>
    <visual>
      <origin rpy="0 0 0" xyz="0.01175 0 0"/>
      <geometry>
        <box size="0.0235 0.028 0.0009"/>
      </geometry>
    </visual>
    <collision>
      <origin rpy="0 0 0" xyz="0.01175 0 0"/>
      <geometry>
        <box size="0.0235 0.028 0.0009"/>
      </geometry>
    </collision>
  </link>
  <gazebo reference="finger_3_segment_link_5">
    <material>Gazebo/Orange</material>
    <mu1>0.1</mu1>
    <mu2>0.1</mu2>
    <maxVel>0.0</maxVel>
    <minDepth>0.001</minDepth>
    <!-- <kp>100</kp>
        <kd>1</kd> -->
  </gazebo>
  <!-- bending joint -->
  <joint name="finger_3_segment_joint_4" type="revolute">
    <axis rpy="0 0 0" xyz="0 1 0"/>
    <parent link="finger_3_segment_link_4"/>
    <child link="finger_3_segment_link_5"/>
    <origin rpy="0 0 0" xyz="0.0235 0 0"/>
    <limit effort="1000.0" lower="-1.0" upper="1.0" velocity="1.0"/>
    <dynamics damping="0.01" friction="0.0"/>
  </joint>
  <gazebo reference="finger_3_segment_joint_4">
    <provideFeedback>1</provideFeedback>
    <springReference>0.0</springReference>
    <implicitSpringDamper>1</implicitSpringDamper>
    <springStiffness>3.0</springStiffness>
  </gazebo>
  <!-- set transmission for gazebo ROS controllers-->
  <transmission name="finger_3_segment_tran_4">
    <type>transmission_interface/SimpleTransmission</type>
    <joint name="finger_3_segment_joint_4">
      <hardwareInterface>hardware_interface/EffortJointInterface</hardwareInterface>
    </joint>
    <actuator name="finger_3_segment_motor_4">
      <hardwareInterface>hardware_interface/EffortJointInterface</hardwareInterface>
      <mechanicalReduction>1</mechanicalReduction>
    </actuator>
  </transmission>
  <link name="finger_3_segment_link_6">
    <inertial>
      <mass value="0.006444241316270568"/>
      <inertia ixx="4.21458752285192e-07" ixy="0.00" ixz="0.00" iyy="1.1867124085923218e-06" iyz="0.00" izz="1.6073011882998174e-06"/>
    </inertial>
    <visual>
      <origin rpy="0 0 0" xyz="0.01175 0 0"/>
      <geometry>
        <box size="0.0235 0.028 0.0009"/>
      </geometry>
    </visual>
    <collision>
      <origin rpy="0 0 0" xyz="0.01175 0 0"/>
      <geometry>
        <box size="0.0235 0.028 0.0009"/>
      </geometry>
    </collision>
  </link>
  <gazebo reference="finger_3_segment_link_6">
    <material>Gazebo/Orange</material>
    <mu1>0.1</mu1>
    <mu2>0.1</mu2>
    <maxVel>0.0</maxVel>
    <minDepth>0.001</minDepth>
    <!-- <kp>100</kp>
        <kd>1</kd> -->
  </gazebo>
  <!-- bending joint -->
  <joint name="finger_3_segment_joint_5" type="revolute">
    <axis rpy="0 0 0" xyz="0 1 0"/>
    <parent link="finger_3_segment_link_5"/>
    <child link="finger_3_segment_link_6"/>
    <origin rpy="0 0 0" xyz="0.0235 0 0"/>
    <limit effort="1000.0" lower="-1.0" upper="1.0" velocity="1.0"/>
    <dynamics damping="0.01" friction="0.0"/>
  </joint>
  <gazebo reference="finger_3_segment_joint_5">
    <provideFeedback>1</provideFeedback>
    <springReference>0.0</springReference>
    <implicitSpringDamper>1</implicitSpringDamper>
    <springStiffness>3.0</springStiffness>
  </gazebo>
  <!-- set transmission for gazebo ROS controllers-->
  <transmission name="finger_3_segment_tran_5">
    <type>transmission_interface/SimpleTransmission</type>
    <joint name="finger_3_segment_joint_5">
      <hardwareInterface>hardware_interface/EffortJointInterface</hardwareInterface>
    </joint>
    <actuator name="finger_3_segment_motor_5">
      <hardwareInterface>hardware_interface/EffortJointInterface</hardwareInterface>
      <mechanicalReduction>1</mechanicalReduction>
    </actuator>
  </transmission>
  <link name="finger_3_segment_link_7">
    <inertial>
      <mass value="0.006444241316270568"/>
      <inertia ixx="4.21458752285192e-07" ixy="0.00" ixz="0.00" iyy="1.1867124085923218e-06" iyz="0.00" izz="1.6073011882998174e-06"/>
    </inertial>
    <visual>
      <origin rpy="0 0 0" xyz="0.01175 0 0"/>
      <geometry>
        <box size="0.0235 0.028 0.0009"/>
      </geometry>
    </visual>
    <collision>
      <origin rpy="0 0 0" xyz="0.01175 0 0"/>
      <geometry>
        <box size="0.0235 0.028 0.0009"/>
      </geometry>
    </collision>
  </link>
  <gazebo reference="finger_3_segment_link_7">
    <material>Gazebo/Orange</material>
    <mu1>0.1</mu1>
    <mu2>0.1</mu2>
    <maxVel>0.0</maxVel>
    <minDepth>0.001</minDepth>
    <!-- <kp>100</kp>
        <kd>1</kd> -->
  </gazebo>
  <!-- bending joint -->
  <joint name="finger_3_segment_joint_6" type="revolute">
    <axis rpy="0 0 0" xyz="0 1 0"/>
    <parent link="finger_3_segment_link_6"/>
    <child link="finger_3_segment_link_7"/>
    <origin rpy="0 0 0" xyz="0.0235 0 0"/>
    <limit effort="1000.0" lower="-1.0" upper="1.0" velocity="1.0"/>
    <dynamics damping="0.01" friction="0.0"/>
  </joint>
  <gazebo reference="finger_3_segment_joint_6">
    <provideFeedback>1</provideFeedback>
    <springReference>0.0</springReference>
    <implicitSpringDamper>1</implicitSpringDamper>
    <springStiffness>3.0</springStiffness>
  </gazebo>
  <!-- set transmission for gazebo ROS controllers-->
  <transmission name="finger_3_segment_tran_6">
    <type>transmission_interface/SimpleTransmission</type>
    <joint name="finger_3_segment_joint_6">
      <hardwareInterface>hardware_interface/EffortJointInterface</hardwareInterface>
    </joint>
    <actuator name="finger_3_segment_motor_6">
      <hardwareInterface>hardware_interface/EffortJointInterface</hardwareInterface>
      <mechanicalReduction>1</mechanicalReduction>
    </actuator>
  </transmission>
  <link name="finger_3_segment_link_8">
    <inertial>
      <mass value="0.006444241316270568"/>
      <inertia ixx="4.21458752285192e-07" ixy="0.00" ixz="0.00" iyy="1.1867124085923218e-06" iyz="0.00" izz="1.6073011882998174e-06"/>
    </inertial>
    <visual>
      <origin rpy="0 0 0" xyz="0.01175 0 0"/>
      <geometry>
        <box size="0.0235 0.028 0.0009"/>
      </geometry>
    </visual>
    <collision>
      <origin rpy="0 0 0" xyz="0.01175 0 0"/>
      <geometry>
        <box size="0.0235 0.028 0.0009"/>
      </geometry>
    </collision>
  </link>
  <gazebo reference="finger_3_segment_link_8">
    <material>Gazebo/Orange</material>
    <mu1>0.1</mu1>
    <mu2>0.1</mu2>
    <maxVel>0.0</maxVel>
    <minDepth>0.001</minDepth>
    <!-- <kp>100</kp>
        <kd>1</kd> -->
  </gazebo>
  <!-- bending joint -->
  <joint name="finger_3_segment_joint_7" type="revolute">
    <axis rpy="0 0 0" xyz="0 1 0"/>
    <parent link="finger_3_segment_link_7"/>
    <child link="finger_3_segment_link_8"/>
    <origin rpy="0 0 0" xyz="0.0235 0 0"/>
    <limit effort="1000.0" lower="-1.0" upper="1.0" velocity="1.0"/>
    <dynamics damping="0.01" friction="0.0"/>
  </joint>
  <gazebo reference="finger_3_segment_joint_7">
    <provideFeedback>1</provideFeedback>
    <springReference>0.0</springReference>
    <implicitSpringDamper>1</implicitSpringDamper>
    <springStiffness>3.0</springStiffness>
  </gazebo>
  <!-- set transmission for gazebo ROS controllers-->
  <transmission name="finger_3_segment_tran_7">
    <type>transmission_interface/SimpleTransmission</type>
    <joint name="finger_3_segment_joint_7">
      <hardwareInterface>hardware_interface/EffortJointInterface</hardwareInterface>
    </joint>
    <actuator name="finger_3_segment_motor_7">
      <hardwareInterface>hardware_interface/EffortJointInterface</hardwareInterface>
      <mechanicalReduction>1</mechanicalReduction>
    </actuator>
  </transmission>
  <link name="finger_3_segment_link_9">
    <inertial>
      <mass value="0.006444241316270568"/>
      <inertia ixx="4.21458752285192e-07" ixy="0.00" ixz="0.00" iyy="1.1867124085923218e-06" iyz="0.00" izz="1.6073011882998174e-06"/>
    </inertial>
    <visual>
      <origin rpy="0 0 0" xyz="0.01175 0 0"/>
      <geometry>
        <box size="0.0235 0.028 0.0009"/>
      </geometry>
    </visual>
    <collision>
      <origin rpy="0 0 0" xyz="0.01175 0 0"/>
      <geometry>
        <box size="0.0235 0.028 0.0009"/>
      </geometry>
    </collision>
  </link>
  <gazebo reference="finger_3_segment_link_9">
    <material>Gazebo/Orange</material>
    <mu1>0.1</mu1>
    <mu2>0.1</mu2>
    <maxVel>0.0</maxVel>
    <minDepth>0.001</minDepth>
    <!-- <kp>100</kp>
        <kd>1</kd> -->
  </gazebo>
  <!-- bending joint -->
  <joint name="finger_3_segment_joint_8" type="revolute">
    <axis rpy="0 0 0" xyz="0 1 0"/>
    <parent link="finger_3_segment_link_8"/>
    <child link="finger_3_segment_link_9"/>
    <origin rpy="0 0 0" xyz="0.0235 0 0"/>
    <limit effort="1000.0" lower="-1.0" upper="1.0" velocity="1.0"/>
    <dynamics damping="0.01" friction="0.0"/>
  </joint>
  <gazebo reference="finger_3_segment_joint_8">
    <provideFeedback>1</provideFeedback>
    <springReference>0.0</springReference>
    <implicitSpringDamper>1</implicitSpringDamper>
    <springStiffness>3.0</springStiffness>
  </gazebo>
  <!-- set transmission for gazebo ROS controllers-->
  <transmission name="finger_3_segment_tran_8">
    <type>transmission_interface/SimpleTransmission</type>
    <joint name="finger_3_segment_joint_8">
      <hardwareInterface>hardware_interface/EffortJointInterface</hardwareInterface>
    </joint>
    <actuator name="finger_3_segment_motor_8">
      <hardwareInterface>hardware_interface/EffortJointInterface</hardwareInterface>
      <mechanicalReduction>1</mechanicalReduction>
    </actuator>
  </transmission>
  <link name="finger_3_segment_link_10">
    <inertial>
      <mass value="0.006444241316270568"/>
      <inertia ixx="4.21458752285192e-07" ixy="0.00" ixz="0.00" iyy="1.1867124085923218e-06" iyz="0.00" izz="1.6073011882998174e-06"/>
    </inertial>
    <visual>
      <origin rpy="0 0 0" xyz="0.01175 0 0"/>
      <geometry>
        <box size="0.0235 0.028 0.0009"/>
      </geometry>
    </visual>
    <collision>
      <origin rpy="0 0 0" xyz="0.01175 0 0"/>
      <geometry>
        <box size="0.0235 0.028 0.0009"/>
      </geometry>
    </collision>
  </link>
  <gazebo reference="finger_3_segment_link_10">
    <material>Gazebo/Orange</material>
    <mu1>0.1</mu1>
    <mu2>0.1</mu2>
    <maxVel>0.0</maxVel>
    <minDepth>0.001</minDepth>
    <!-- <kp>100</kp>
        <kd>1</kd> -->
  </gazebo>
  <!-- bending joint -->
  <joint name="finger_3_segment_joint_9" type="revolute">
    <axis rpy="0 0 0" xyz="0 1 0"/>
    <parent link="finger_3_segment_link_9"/>
    <child link="finger_3_segment_link_10"/>
    <origin rpy="0 0 0" xyz="0.0235 0 0"/>
    <limit effort="1000.0" lower="-1.0" upper="1.0" velocity="1.0"/>
    <dynamics damping="0.01" friction="0.0"/>
  </joint>
  <gazebo reference="finger_3_segment_joint_9">
    <provideFeedback>1</provideFeedback>
    <springReference>0.0</springReference>
    <implicitSpringDamper>1</implicitSpringDamper>
    <springStiffness>3.0</springStiffness>
  </gazebo>
  <!-- set transmission for gazebo ROS controllers-->
  <transmission name="finger_3_segment_tran_9">
    <type>transmission_interface/SimpleTransmission</type>
    <joint name="finger_3_segment_joint_9">
      <hardwareInterface>hardware_interface/EffortJointInterface</hardwareInterface>
    </joint>
    <actuator name="finger_3_segment_motor_9">
      <hardwareInterface>hardware_interface/EffortJointInterface</hardwareInterface>
      <mechanicalReduction>1</mechanicalReduction>
    </actuator>
  </transmission>
  <!-- Add the finger hook link -->
  <link name="finger_3_finger_hook_link">
    <inertial>
      <mass value="0.006444241316270568"/>
      <inertia ixx="4.21458752285192e-07" ixy="0.00" ixz="0.00" iyy="1.1867124085923218e-06" iyz="0.00" izz="1.6073011882998174e-06"/>
    </inertial>
    <visual>
      <origin rpy="0 0 0" xyz="0.01925 0 0"/>
      <geometry>
        <box size="0.0385 0.028 0.0009"/>
      </geometry>
    </visual>
    <collision>
      <origin rpy="0 0 0" xyz="0.01925 0 0"/>
      <geometry>
        <box size="0.0385 0.028 0.0009"/>
      </geometry>
    </collision>
  </link>
  <gazebo reference="finger_3_finger_hook_link">
    <material>Gazebo/Orange</material>
    <mu1>0.1</mu1>
    <mu2>0.1</mu2>
    <maxVel>0.0</maxVel>
    <minDepth>0.001</minDepth>
    <!-- <kp>100</kp>
        <kd>1</kd> -->
  </gazebo>
  <!-- Connect the finger hook via a fixed joint -->
  <joint name="finger_3_finger_hook_joint" type="fixed">
    <parent link="finger_3_segment_link_10"/>
    <child link="finger_3_finger_hook_link"/>
    <origin rpy="0 -1.5707963267948502 0" xyz="0.0235 0 0"/>
  </joint>
  <gazebo>
    <plugin filename="libfinger_controller_plugin.so" name="finger_controller_plugin"/>
  </gazebo>
  <!-- attach them to the gripper -->
  <joint name="to_segmented_finger_1" type="fixed">
    <origin rpy="1.5707963267948966 0 0" xyz="0.129 -0.007 0"/>
    <parent link="finger_1"/>
    <child link="finger_1_segment_link_1"/>
  </joint>
  <joint name="to_segmented_finger_2" type="fixed">
    <origin rpy="1.5707963267948966 0 0" xyz="0.129 -0.007 0"/>
    <parent link="finger_2"/>
    <child link="finger_2_segment_link_1"/>
  </joint>
  <joint name="to_segmented_finger_3" type="fixed">
    <origin rpy="1.5707963267948966 0 0" xyz="0.129 -0.007 0"/>
    <parent link="finger_3"/>
    <child link="finger_3_segment_link_1"/>
  </joint>
  <!-- attach gripper to the ground for mujoco -->
  <link name="world"/>
  <joint name="world_to_base" type="prismatic">
    <origin rpy="3.141592653589793 0 0" xyz="0 0 0.386"/>
    <axis rpy="0 0 0" xyz="0 0 1"/>
    <parent link="world"/>
    <child link="gripper_base_link"/>
    <limit effort="1e3" lower="-1" upper="1" velocity="1"/>
    <dynamics damping="1"/>
  </joint>
</robot>
